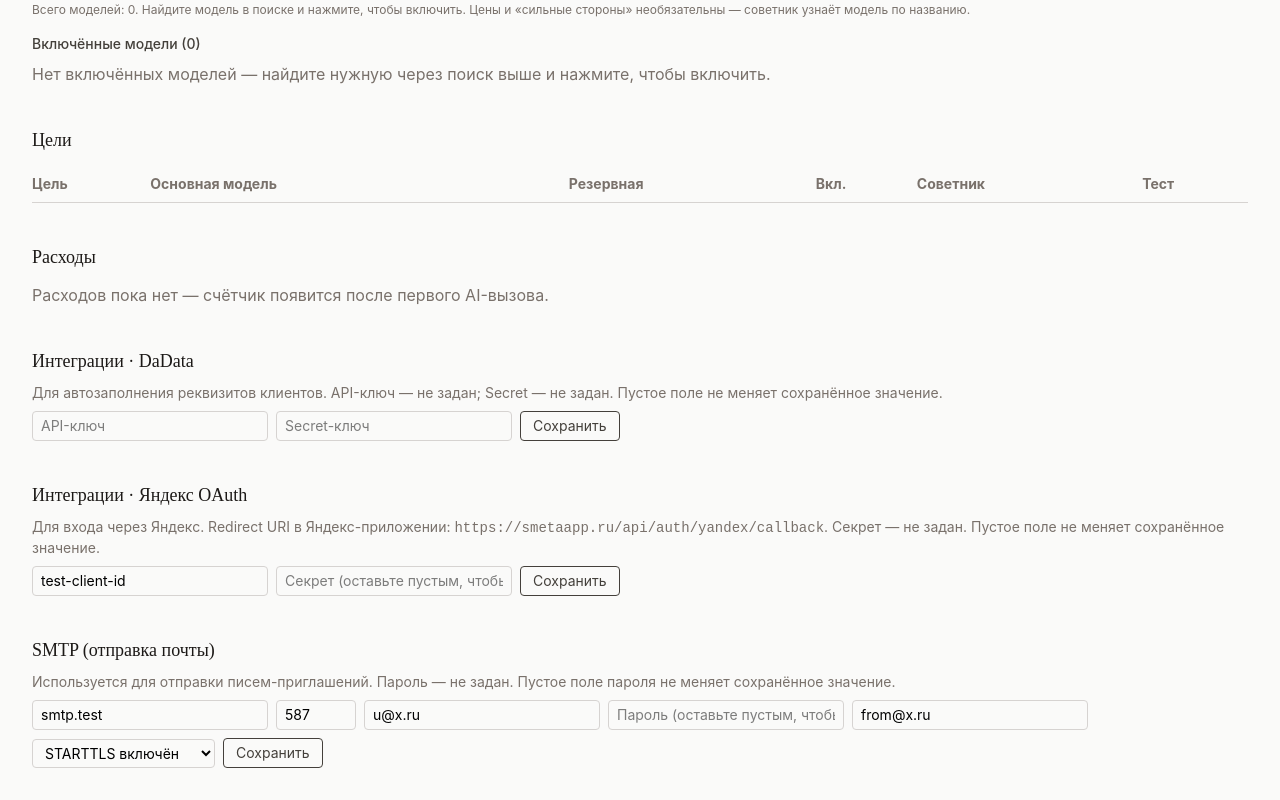
Test: AiConfigPage — блок «SMTP» › сохранение вызывает PUT /settings/smtp и показывает «Сохранено»
This screenshot has width=1280, height=800.
(page scrolled)
Expected: the field showing "smtp.test" is shown, [32,700,268,730]
In the password field named "SMTP пароль": (726,715) [608,700,844,730], type "secret123"
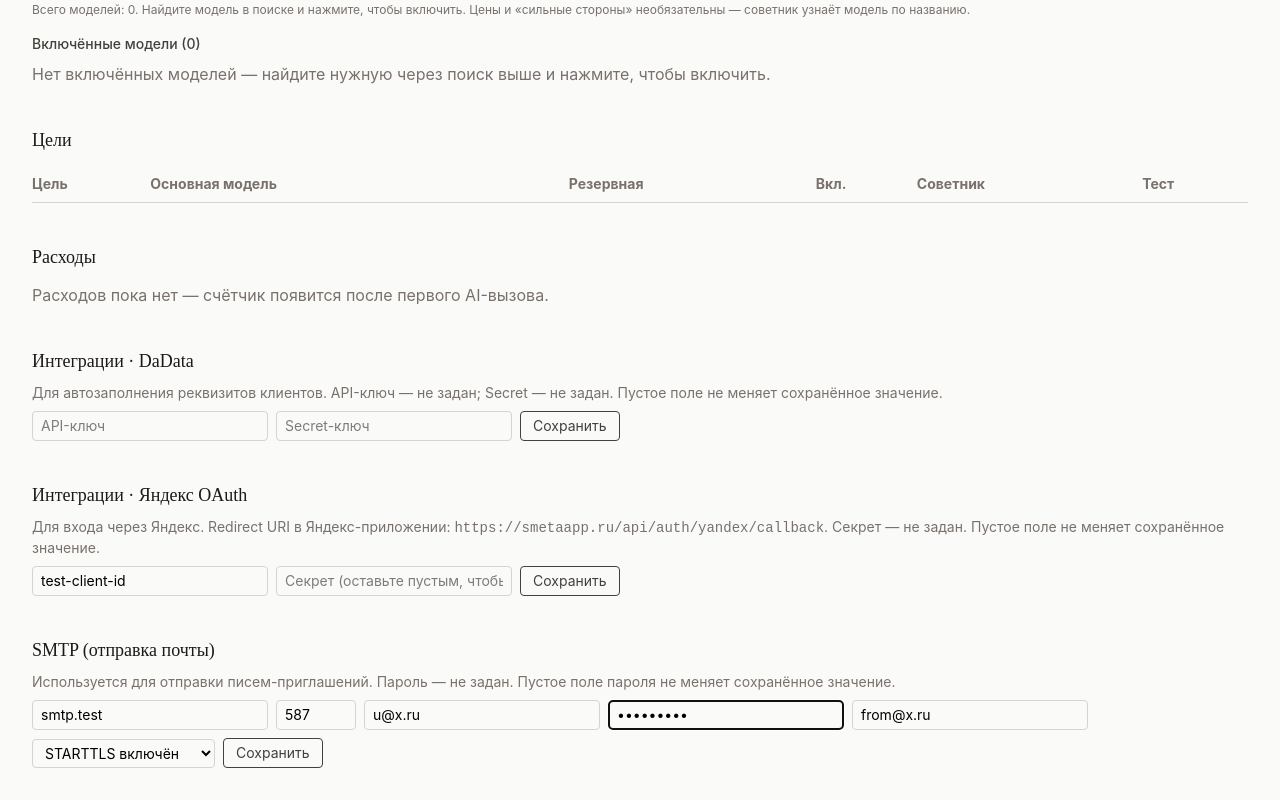
Click the button "Сохранить" below "SMTP (отправка почты)": (273,753) [223,738,323,768]
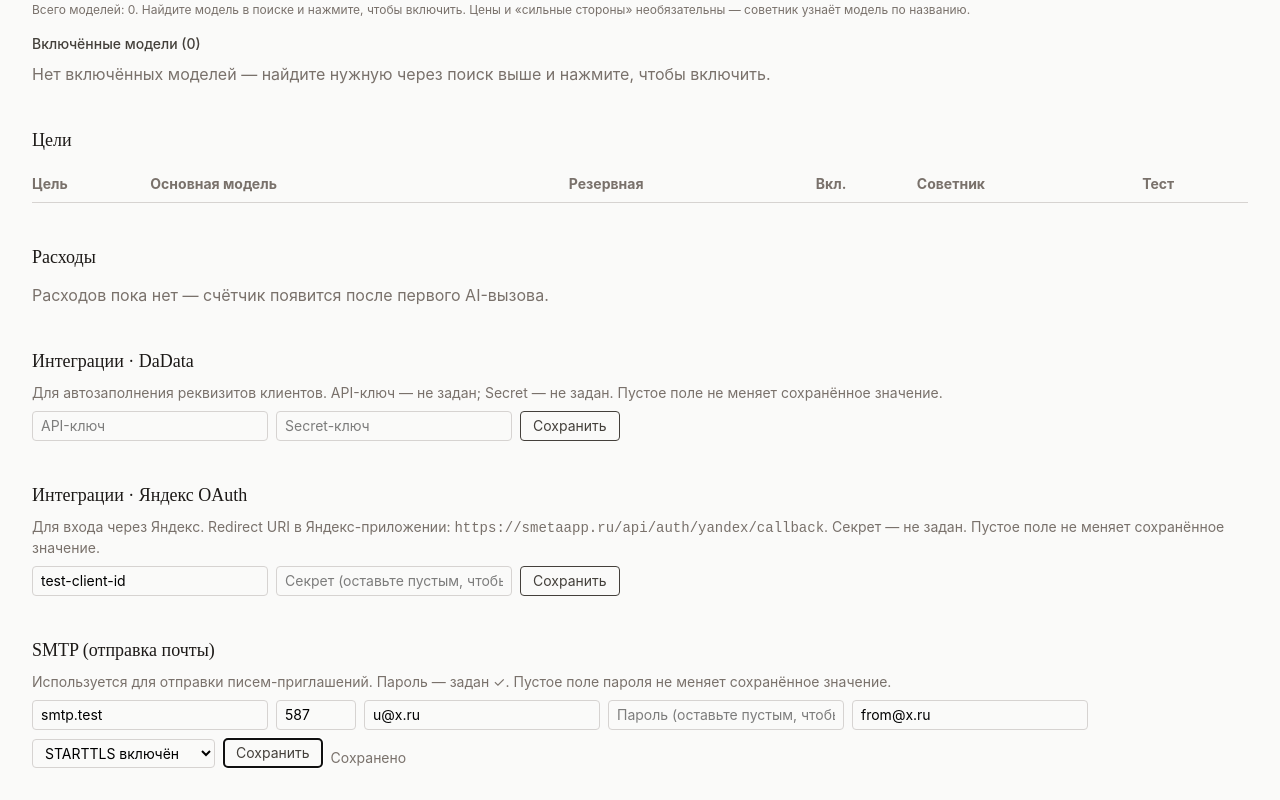
Result: the text "Сохранено" is shown at [331,748,406,768]
Result: the password field named "SMTP пароль" is empty at [608,700,844,730]
